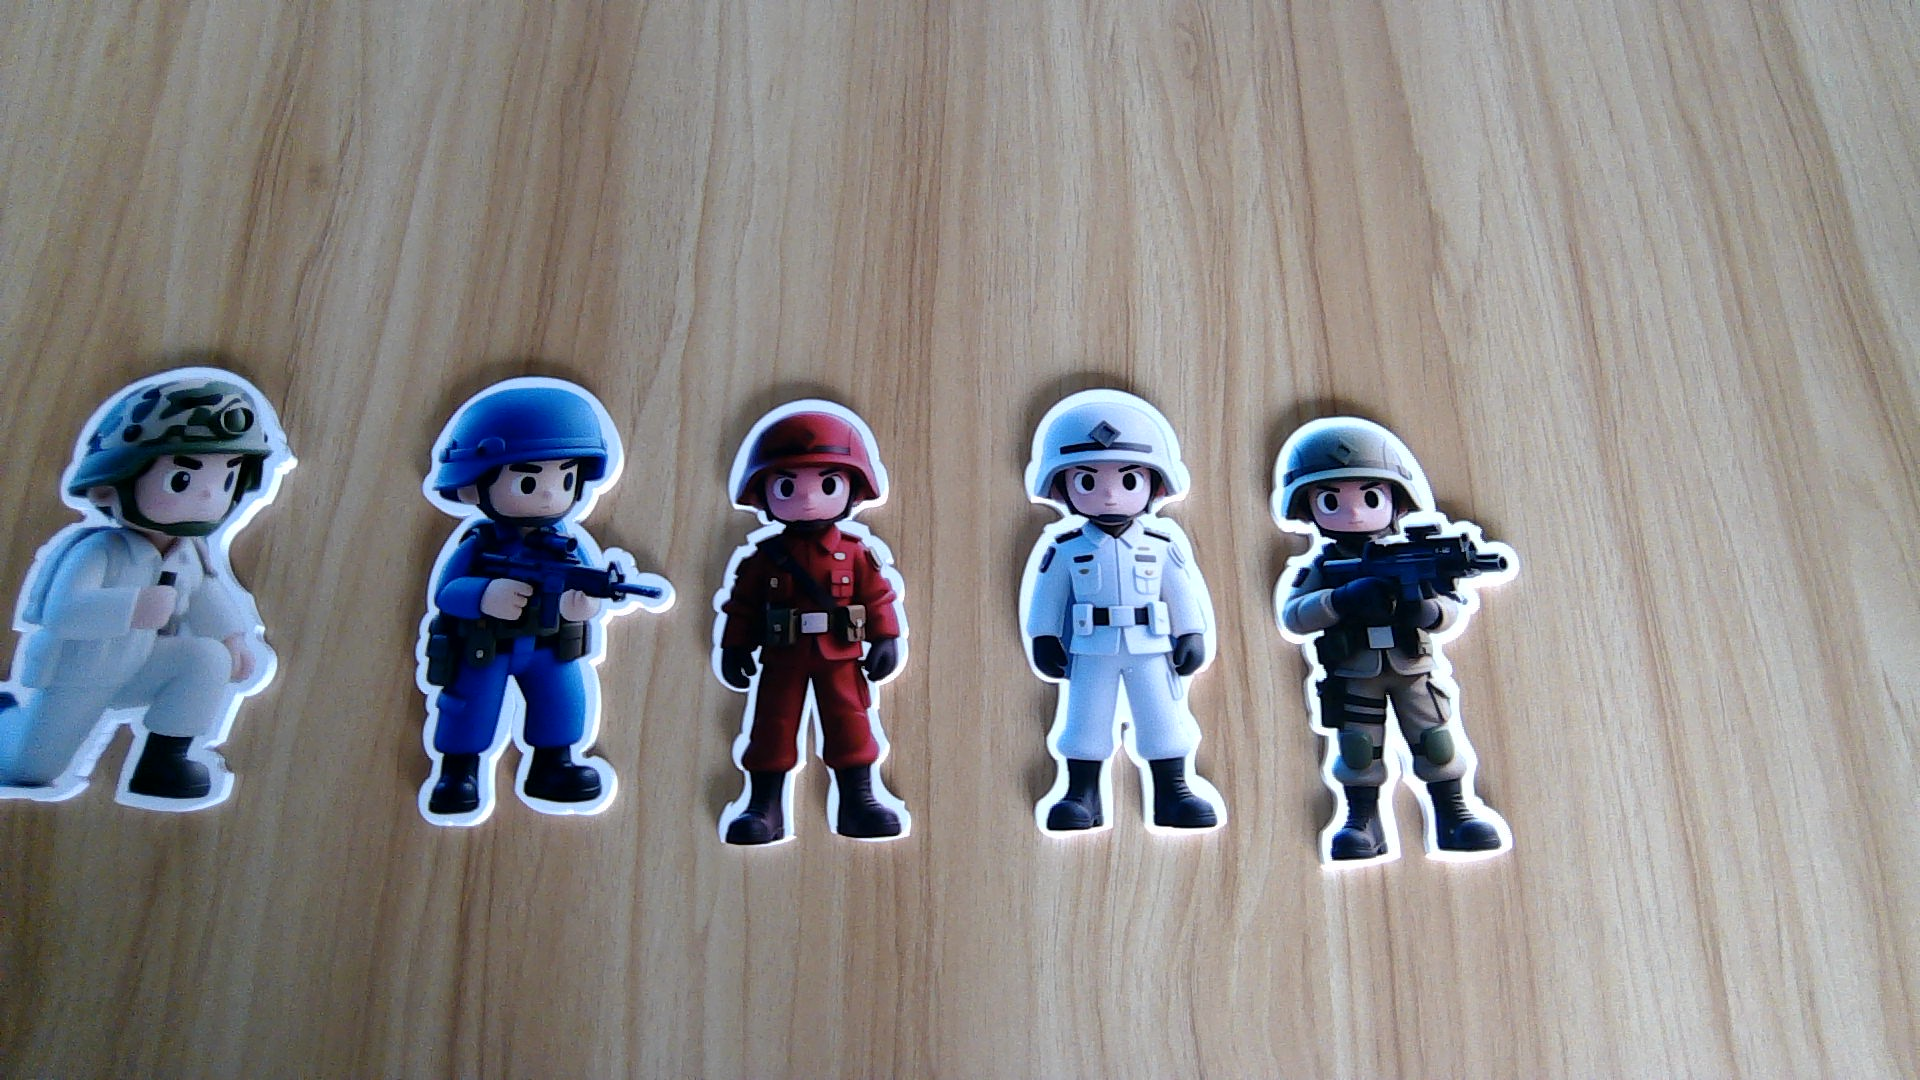人质: (5, 513, 272, 828), (1004, 513, 1229, 840)
友军: (1269, 537, 1523, 866)
敌人1: (695, 525, 920, 843)
敌人2: (398, 522, 674, 822)
